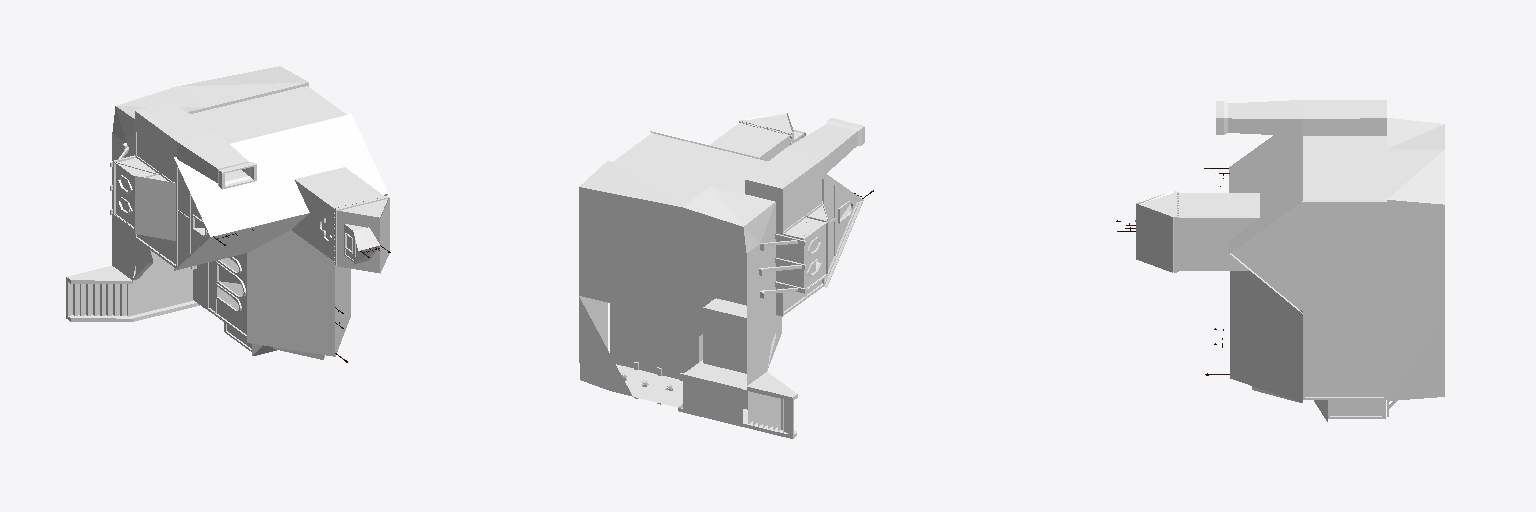
File: med_house_final.obj
The picture shows the model from 3 angles: view 1: azimuth 30°, elevation 25°; view 2: azimuth 150°, elevation 25°; view 3: azimuth 270°, elevation 25°; orthographic projection.
Parts seen in each view (by area): view 1: Box01, Box49, Box03, Stairs01; view 2: Box49, Box01, Stairs01, StraightStair01, Box03; view 3: Box01, Box49, Box03.
Boxes of the visible parts, <box> form: Box01: <box>113,86,387,359</box>; Box49: <box>66,66,308,321</box>; Box03: <box>292,167,389,273</box>; Stairs01: <box>66,268,192,316</box>; Box49: <box>579,161,797,438</box>; Box01: <box>610,118,864,379</box>; Stairs01: <box>683,362,793,435</box>; StraightStair01: <box>703,298,746,373</box>; Box03: <box>709,113,805,159</box>; Box01: <box>1216,100,1386,421</box>; Box49: <box>1387,118,1444,400</box>; Box03: <box>1135,191,1259,272</box>.
Bounding box in the file's own units: 127 × 139 × 169.